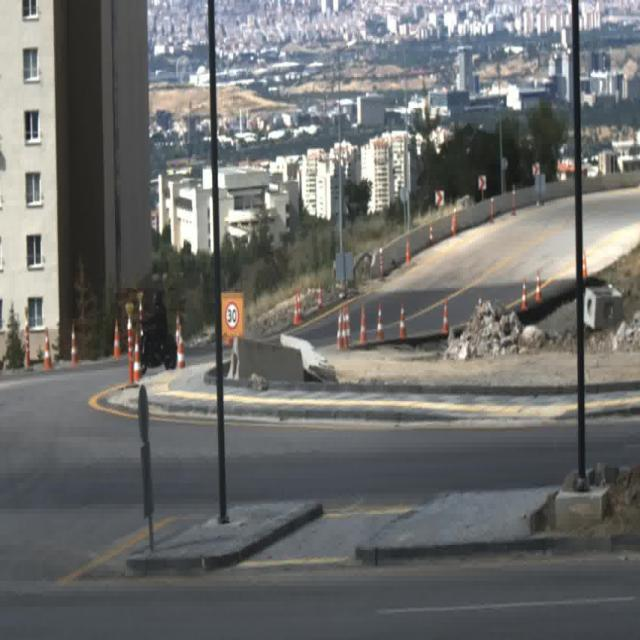Motorcycle: (140, 288, 178, 371)
